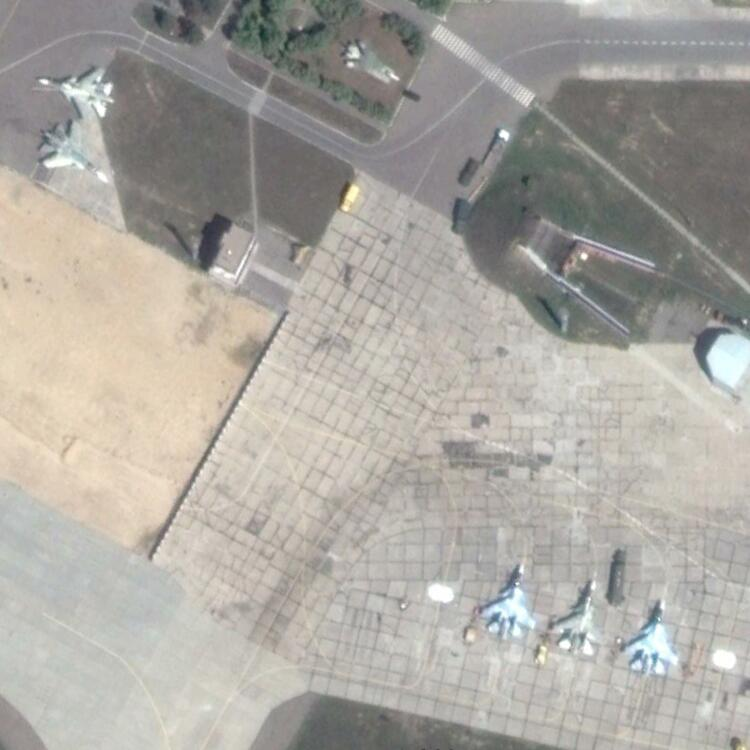A19: (475, 560, 539, 643), (620, 595, 682, 679), (548, 576, 610, 659), (34, 118, 111, 182), (34, 66, 116, 122)
A20: (338, 36, 402, 87)
